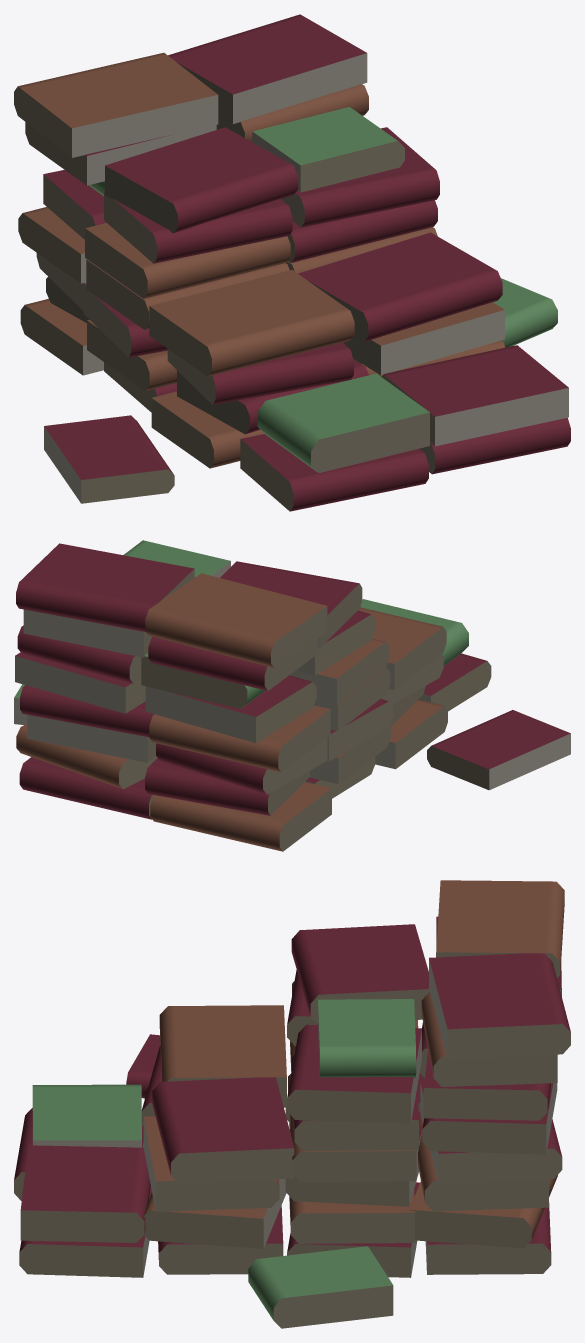
Rendered from stairs_bookstack.gltf.
3 views of the same model, one above another, from view 1: azimuth 30°, elevation 25°; view 2: azimuth 150°, elevation 25°; view 3: azimuth 270°, elevation 25° (orthographic). The views are drawn at different scales.
Parts seen in each view (by area): view 1: Cube.009, Cube.046, Cube.016, Cube.048, Cube.025, Cube.018, Cube.021, Cube.032, Cube.011, Cube.019, Cube.015, Cube.005 (+21 smaller); view 2: Cube.046, Cube.048, Cube.032, Cube.033, Cube.043, Cube.036, Cube.034, Cube.016, Cube.044, Cube.045, Cube.037, Cube.035 (+19 smaller); view 3: Cube.025, Cube.048, Cube.021, Cube.016, Cube.046, Cube.009, Cube.031, Cube.011, Cube.014, Cube.018, Cube.026, Cube.024 (+18 smaller).
Part boxes in pixels (x1,y1,x2,y2): Cube.009: [149, 270, 354, 376]; Cube.046: [14, 52, 218, 157]; Cube.016: [105, 127, 298, 233]; Cube.048: [168, 14, 367, 123]; Cube.025: [298, 232, 502, 342]; Cube.018: [257, 373, 429, 472]; Cube.021: [381, 345, 568, 446]; Cube.032: [44, 415, 174, 503]; Cube.011: [252, 107, 404, 192]; Cube.019: [240, 434, 428, 511]; Cube.015: [85, 223, 290, 298]; Cube.005: [104, 190, 292, 263]; Cube.046: [145, 573, 327, 668]; Cube.048: [16, 543, 194, 631]; Cube.032: [427, 710, 570, 790]; Cube.033: [150, 782, 331, 851]; Cube.043: [145, 675, 316, 743]; Cube.036: [149, 705, 330, 772]; Cube.034: [145, 758, 309, 815]; Cube.016: [220, 561, 362, 648]; Cube.044: [15, 652, 145, 713]; Cube.045: [148, 636, 317, 690]; Cube.037: [19, 757, 153, 819]; Cube.035: [156, 738, 327, 794]; Cube.025: [152, 1077, 294, 1183]; Cube.048: [429, 953, 570, 1059]; Cube.021: [20, 1145, 150, 1242]; Cube.016: [291, 924, 429, 1023]; Cube.046: [436, 880, 564, 978]; Cube.009: [159, 1005, 286, 1107]; Cube.031: [248, 1246, 393, 1328]; Cube.011: [318, 999, 416, 1078]; Cube.014: [287, 1024, 421, 1123]; Cube.018: [32, 1084, 141, 1147]; Cube.026: [289, 1190, 414, 1243]; Cube.024: [143, 1116, 279, 1211].
Size of the model in its own units: 1.95 by 0.8406 by 1.71.
